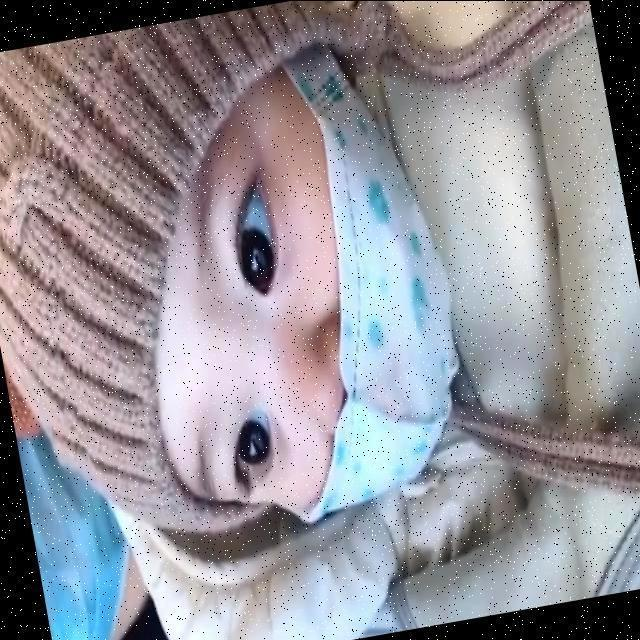mask: (338, 128, 461, 490)
